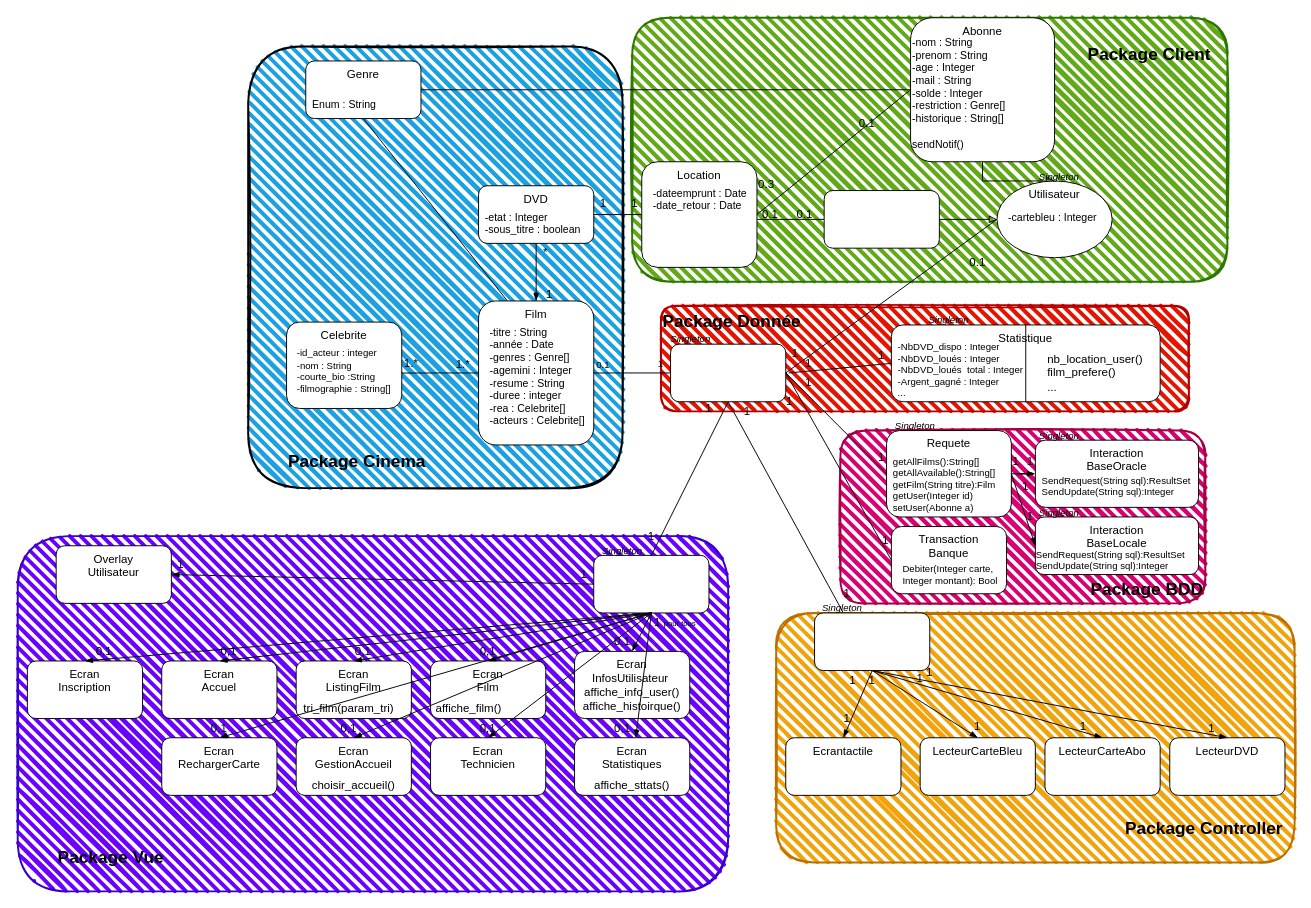
Some shapes in this 1311 by 908 pixel diagram are drawn without their labels. Here are the shapes that lost their labels. From the top down, the centre of each, then its label:
the point at 881,219: NonAbonne
the point at 728,372: Al2000Mediateur
the point at 651,583: Affichage
the point at 872,641: Controleur
